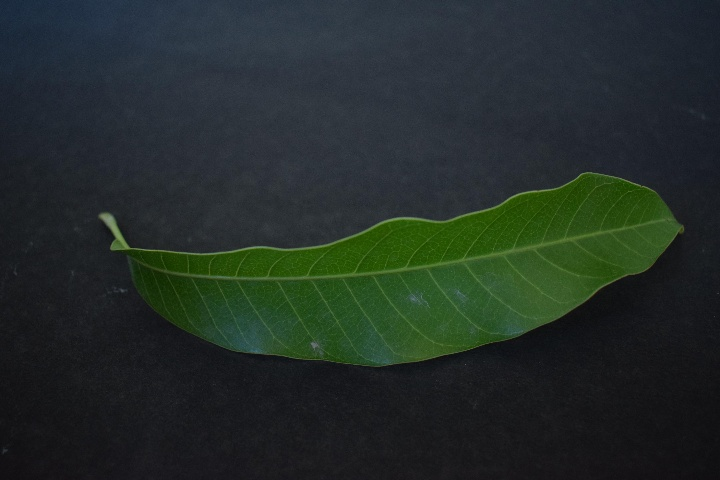healthy: (106, 168, 671, 367)
